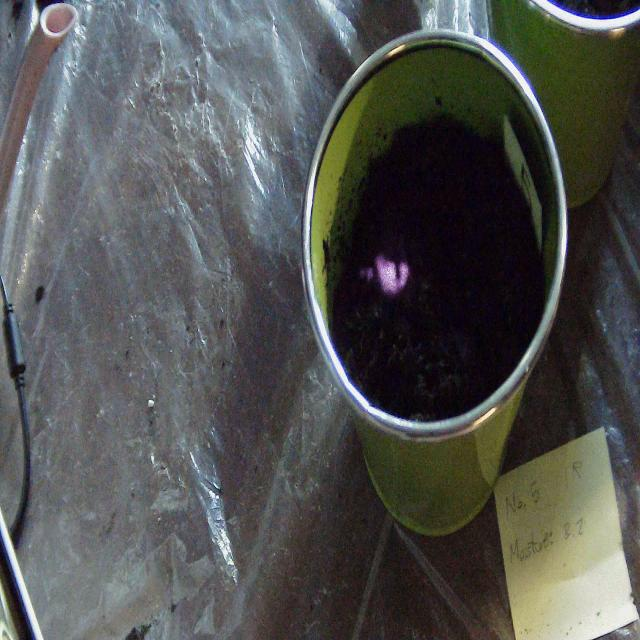soil-moisture-8.2: (364, 254, 408, 292)
